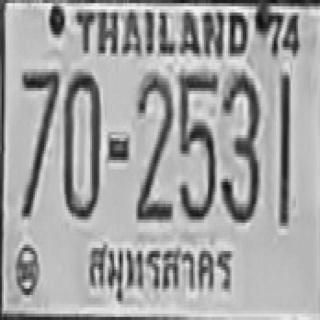N00: (63, 69, 99, 216)
N01: (276, 71, 289, 224), (277, 74, 290, 224)
N02: (135, 70, 172, 218)
N03: (220, 72, 258, 220)
N05: (178, 69, 218, 216)
N07: (20, 68, 59, 215)
P58: (76, 232, 241, 311)
